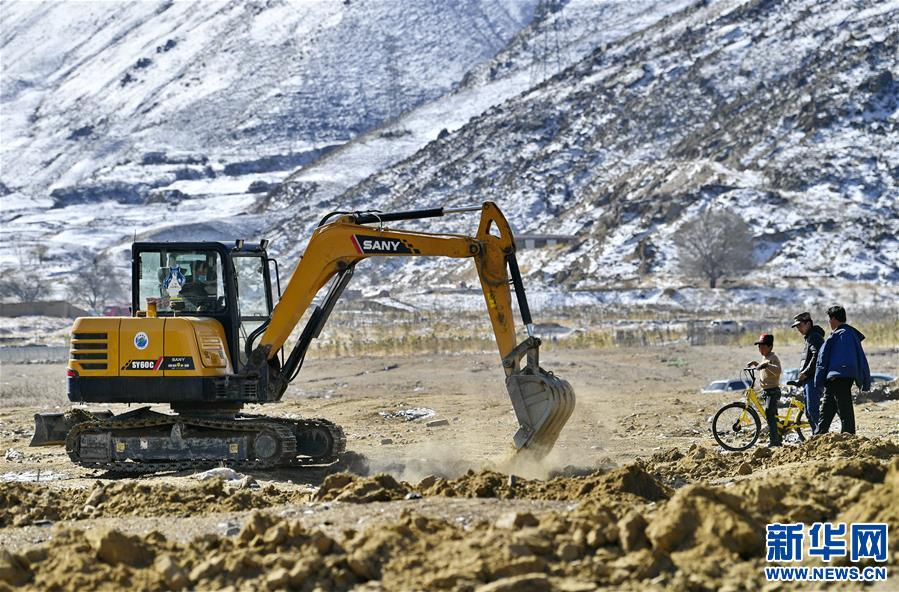excavator: (24, 188, 579, 492)
